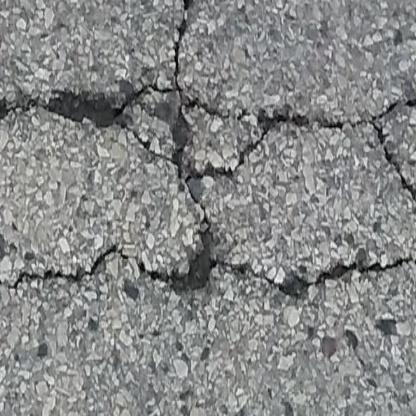Cracks: (0, 0, 416, 303)
